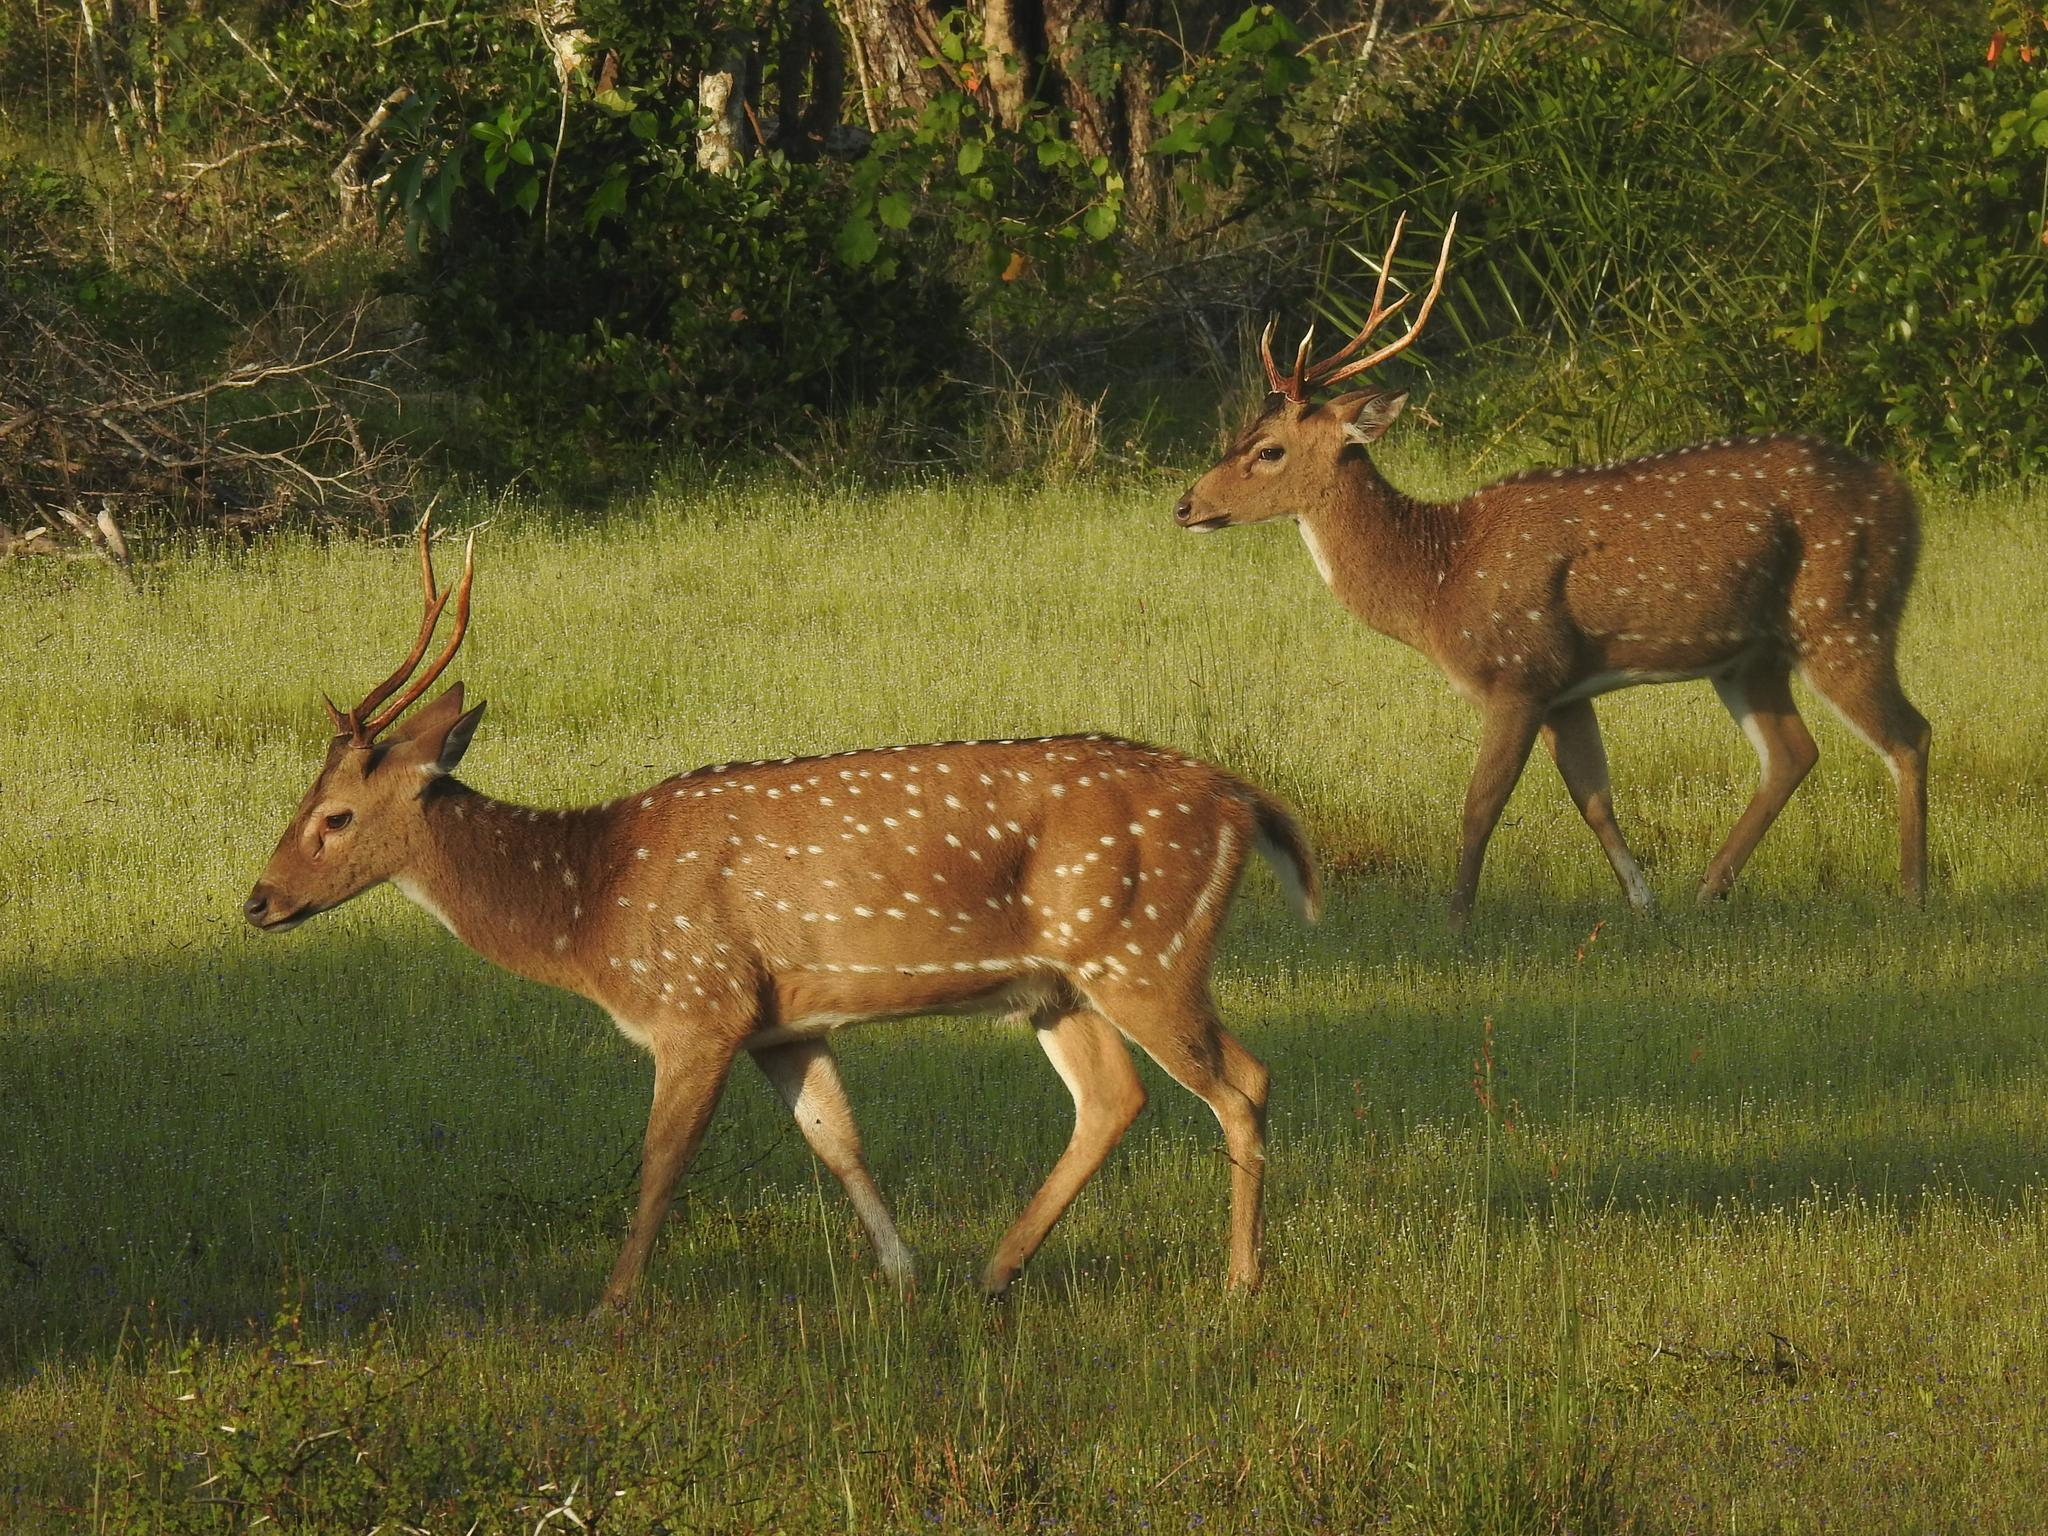Deer: (244, 511, 1316, 1305), (1174, 213, 1930, 923)
